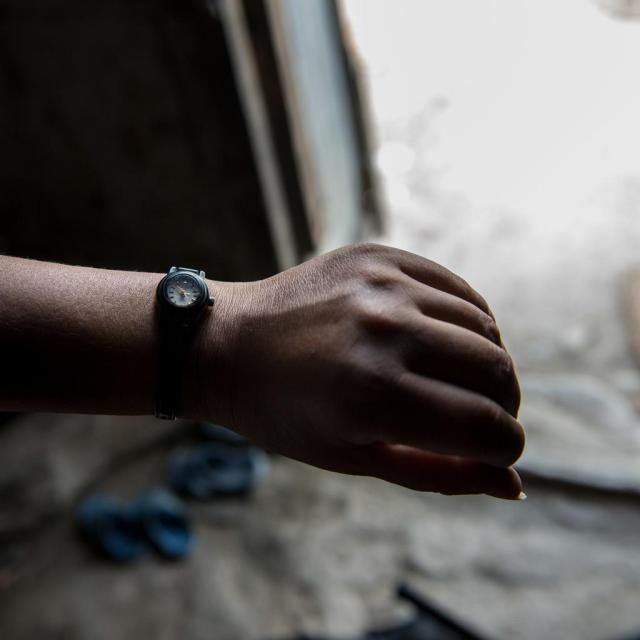Wrist watch: (156, 266, 216, 421)
